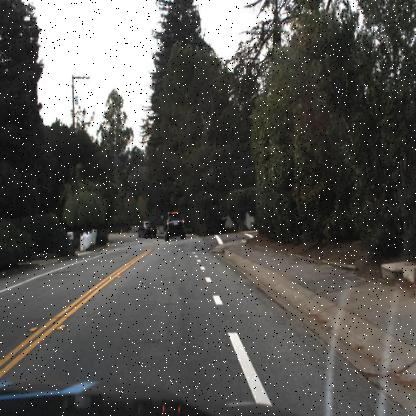car: (164, 210, 186, 242), (138, 221, 160, 239)
